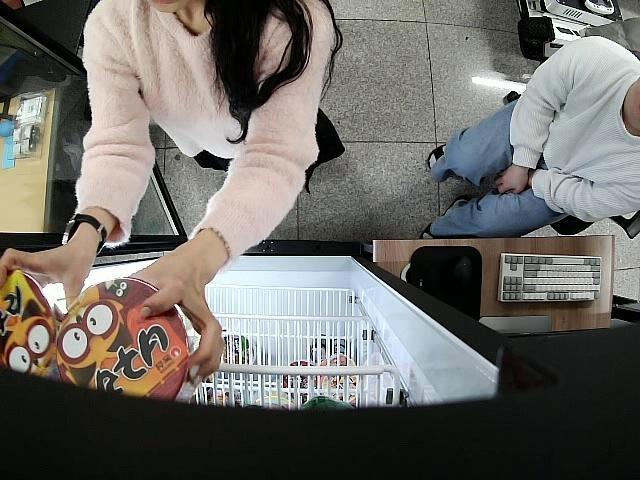05_nuguri_L: (57, 276, 191, 396), (0, 264, 56, 378)
